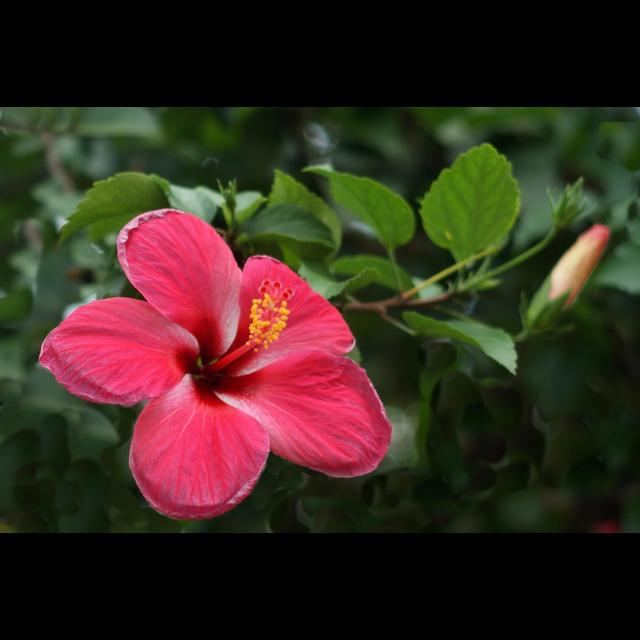Flower: (74, 227, 382, 523)
